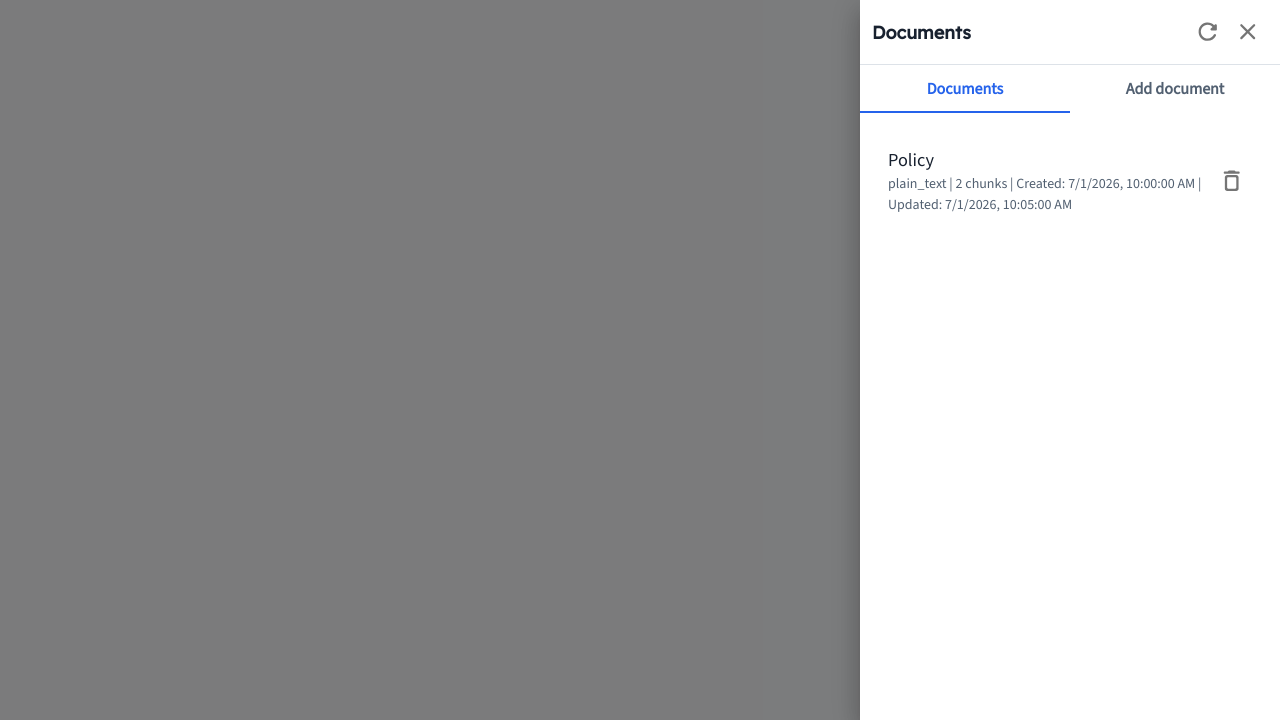
DocumentsPanel › starts text ingestion, tracks the job to completion, and shows the document
The width and height of the screenshot is (1280, 720).
Click the tab "Add document". click: (1175, 89)
box: left=1070, top=65, right=1279, bottom=113
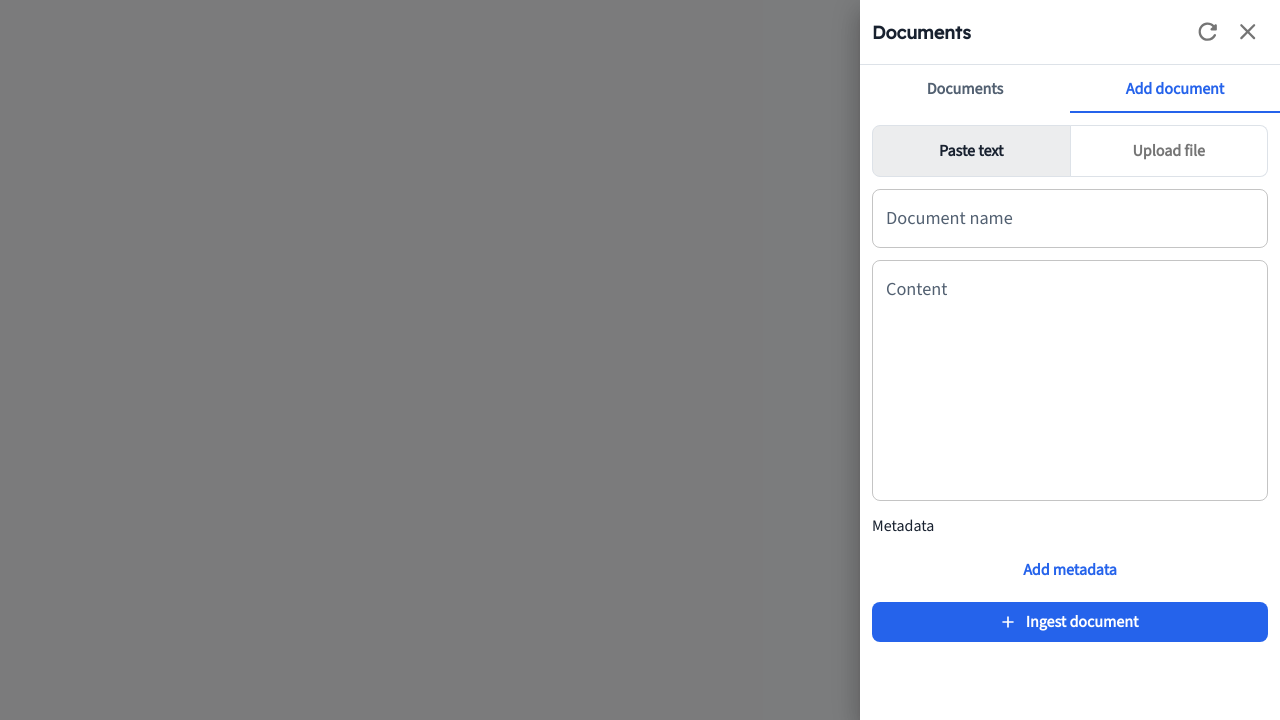
Type "Policy" into the field labelled "Document name". click: (1070, 219)
box: left=872, top=189, right=1268, bottom=248
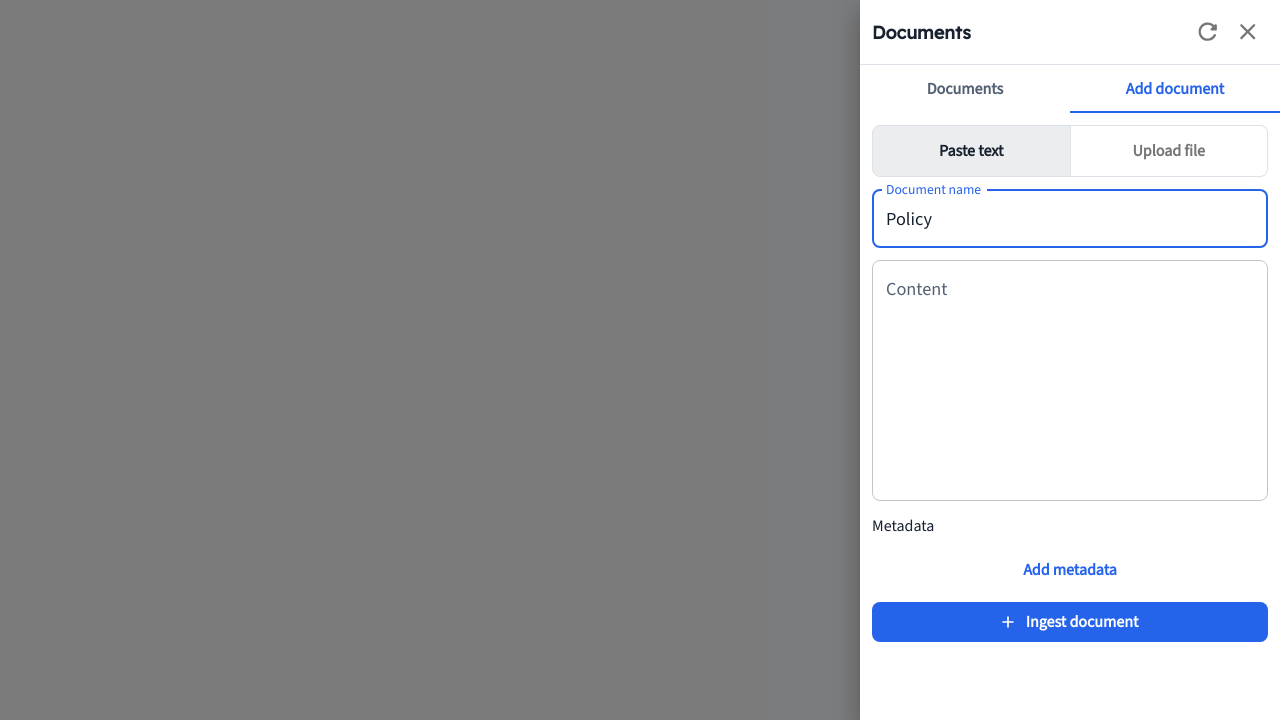
Type "Refund terms" into the text box labelled "Content". click: (1070, 381)
box: left=886, top=277, right=1254, bottom=485
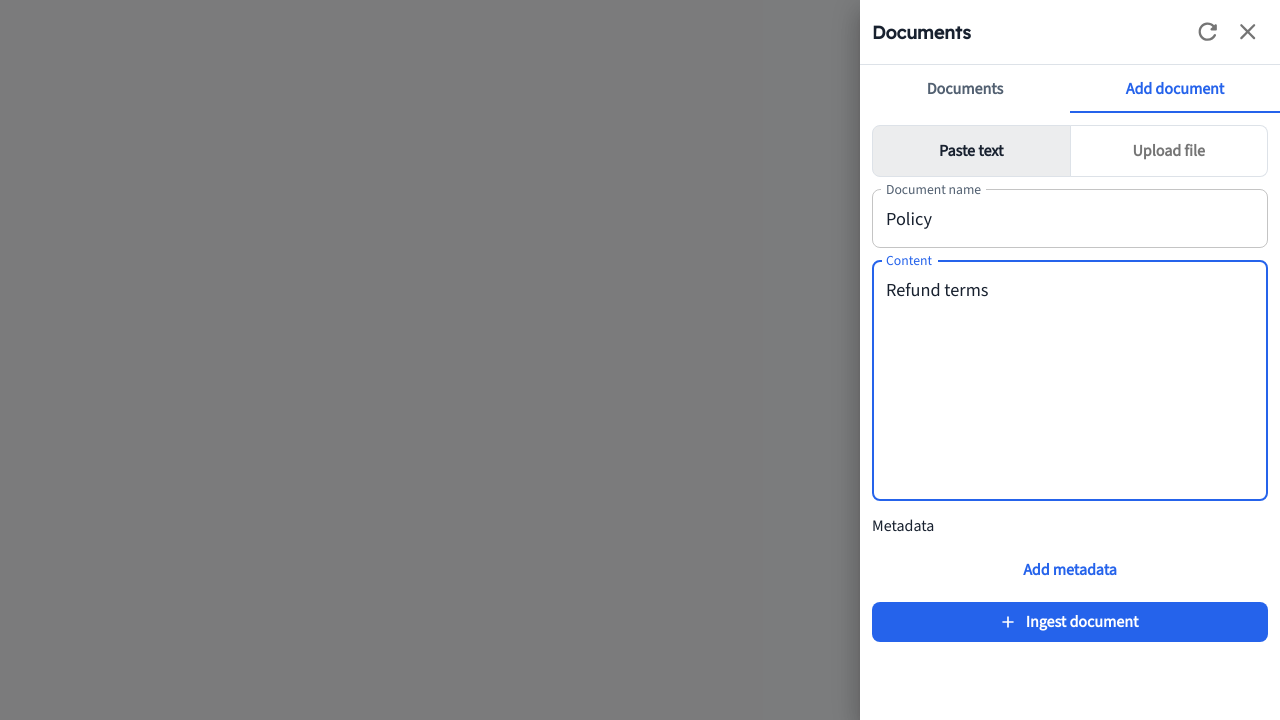
Click the button "Ingest document". click: (1070, 622)
box: left=872, top=602, right=1268, bottom=642
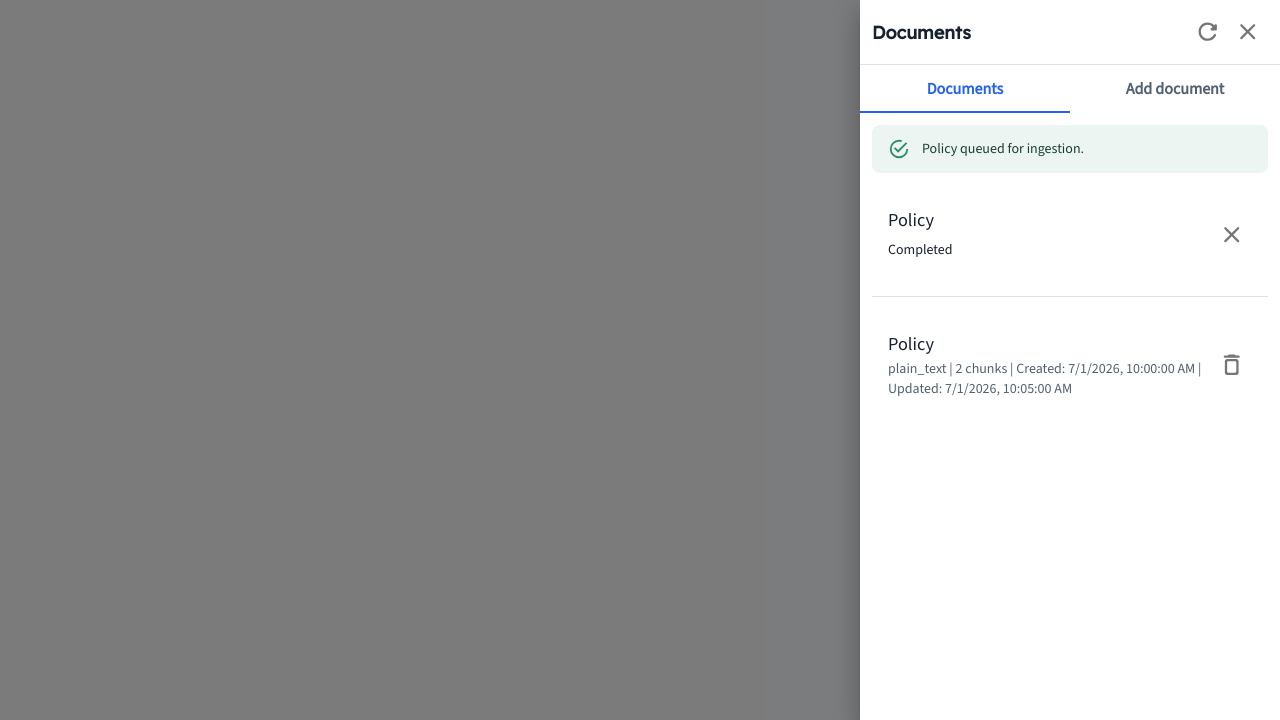
Now the text "Policy queued for ingestion." is shown, box left=922, top=139, right=1084, bottom=158
Now the text "Completed" is shown, box left=888, top=240, right=953, bottom=259
Now the 1st text "Policy" is shown, box left=888, top=208, right=934, bottom=232
